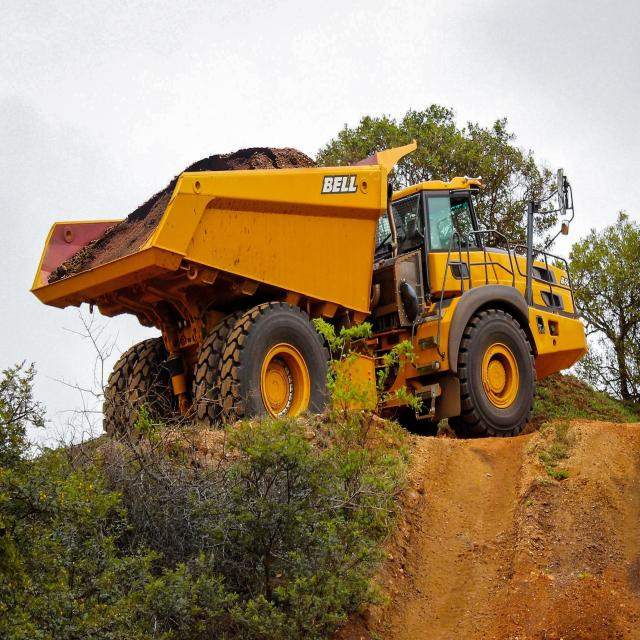dump_truck: (32, 126, 586, 459)
